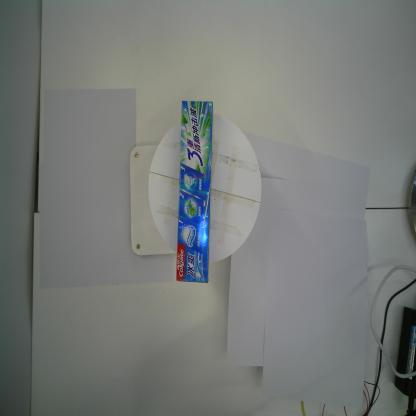Personal Hygiene: (176, 100, 213, 282)
